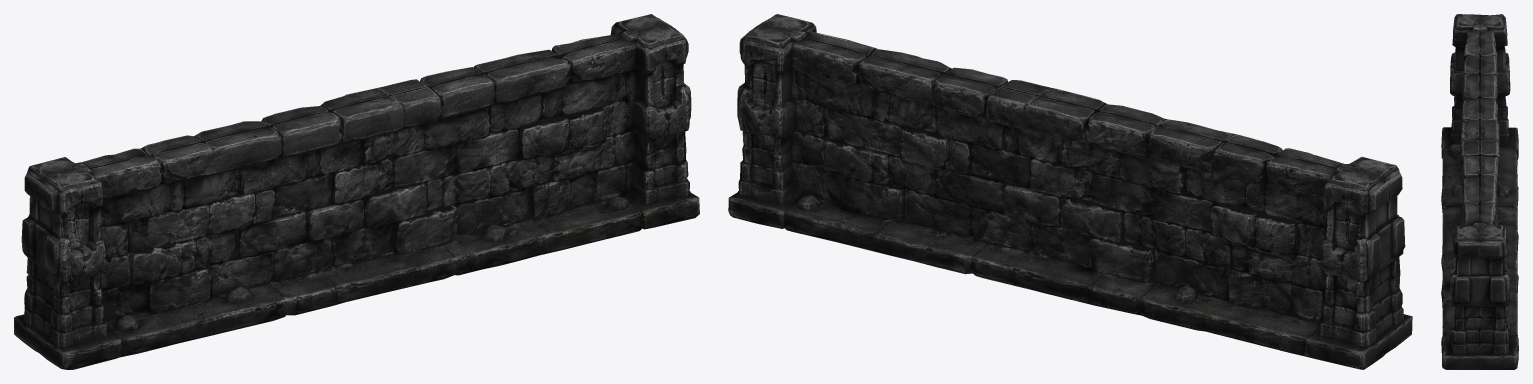
The model's file is fort_m_volcano_wall.glb.
The picture shows the model from 3 angles, left to right: view 1: azimuth 30°, elevation 25°; view 2: azimuth 150°, elevation 25°; view 3: azimuth 270°, elevation 25°; orthographic projection. The views are drawn at different scales.
Visible parts, largest first — view 1: fort_m_volcano_wall; view 2: fort_m_volcano_wall; view 3: fort_m_volcano_wall.
Boxes of the visible parts, x1,y1,x2,y2 form: fort_m_volcano_wall: [14, 14, 699, 369]; fort_m_volcano_wall: [728, 14, 1412, 369]; fort_m_volcano_wall: [1441, 14, 1518, 369].
Size of the model in its own units: 1.9 by 0.5007 by 0.2709.
1 material, 1 textured.
